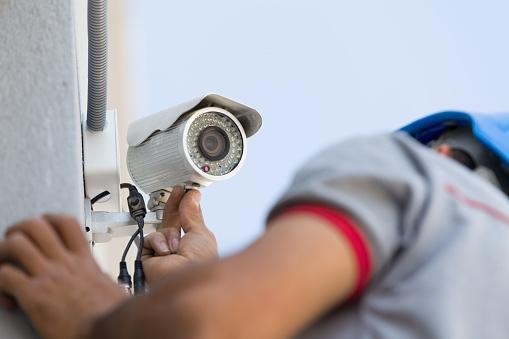camera: (104, 81, 277, 215)
